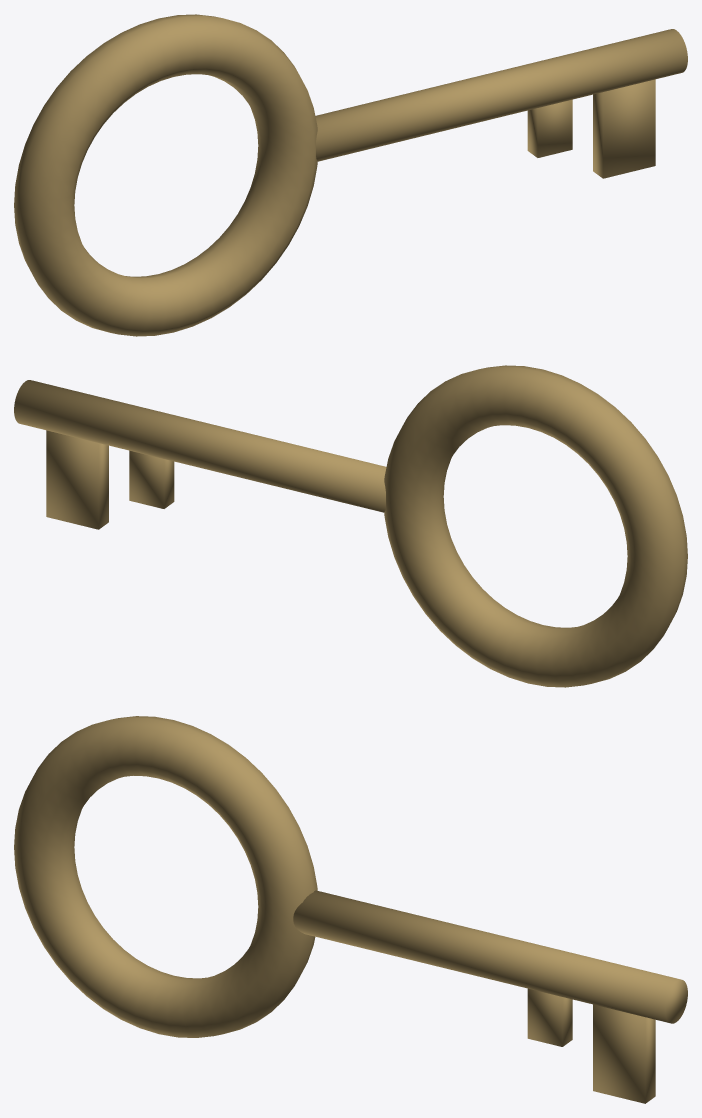
File: SM_Dyn_Anahtar.fbx
3 views of the same model, one above another, from view 1: azimuth 30°, elevation 25°; view 2: azimuth 150°, elevation 25°; view 3: azimuth 330°, elevation 25° (orthographic).
Parts seen in each view (by area): view 1: Anahtar.001; view 2: Anahtar.001; view 3: Anahtar.001.
Part boxes in pixels (x1,y1,x2,y2): Anahtar.001: (14, 14, 687, 336); Anahtar.001: (14, 365, 687, 687); Anahtar.001: (14, 716, 687, 1103).
Bounding box in the file's own units: 0.3322 × 0.0264 × 0.1496.
